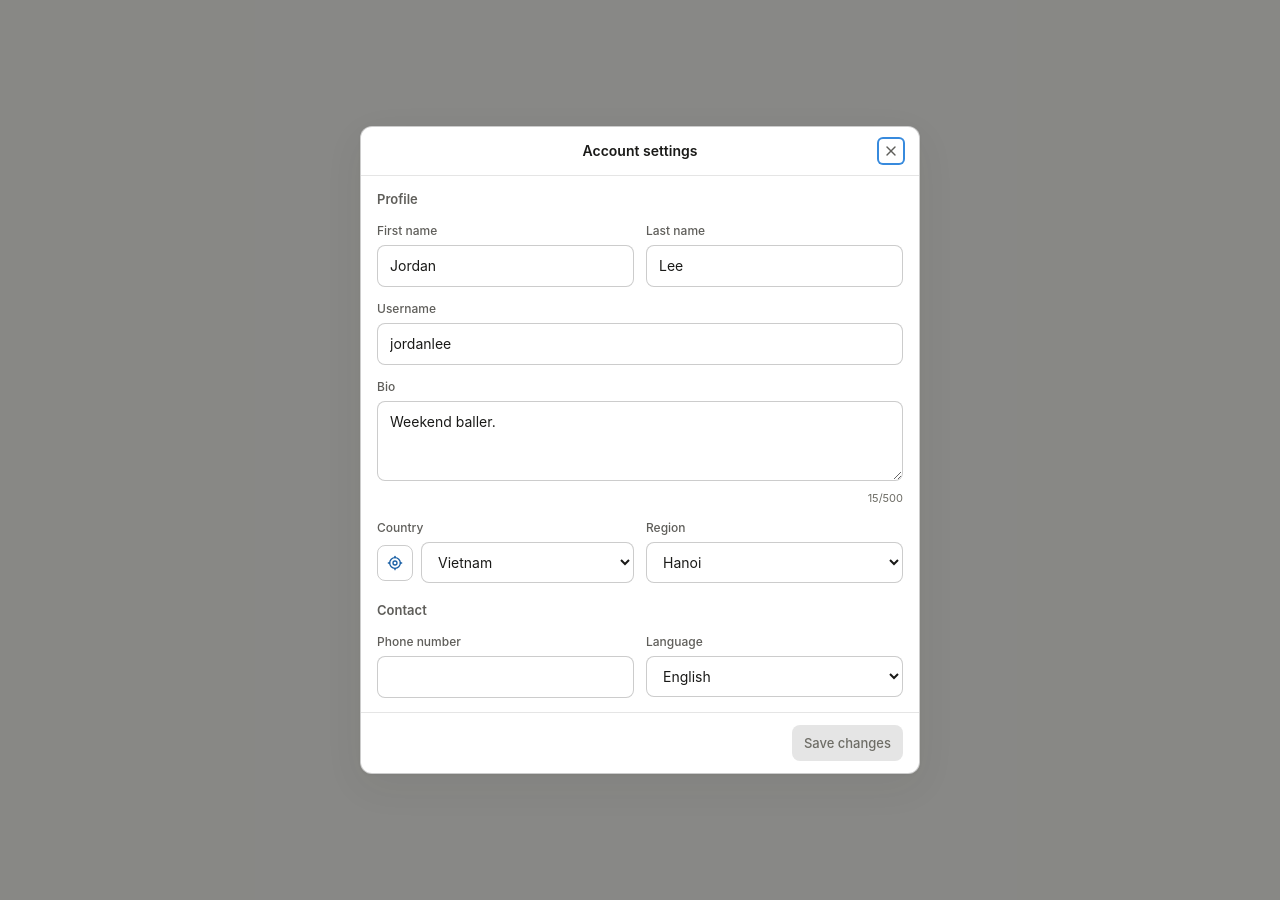
Scenario: AccountSettingsModal · unsaved-changes guard (ACCOUNT-5) › closing the prompt keeps the modal and the edits
Type " Edited" into the text box labelled "Bio" at (640, 441), box [377, 401, 903, 481]
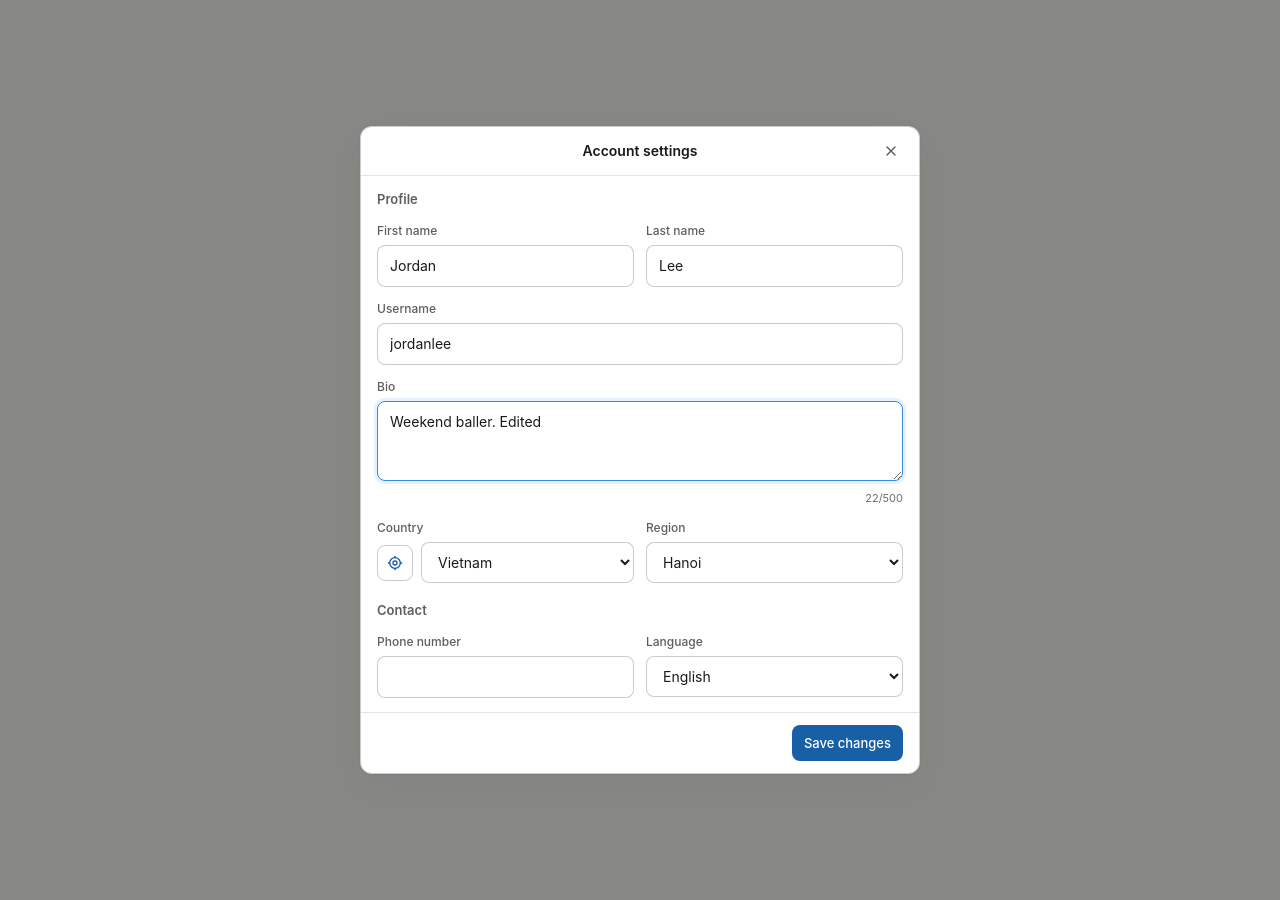
Press Escape
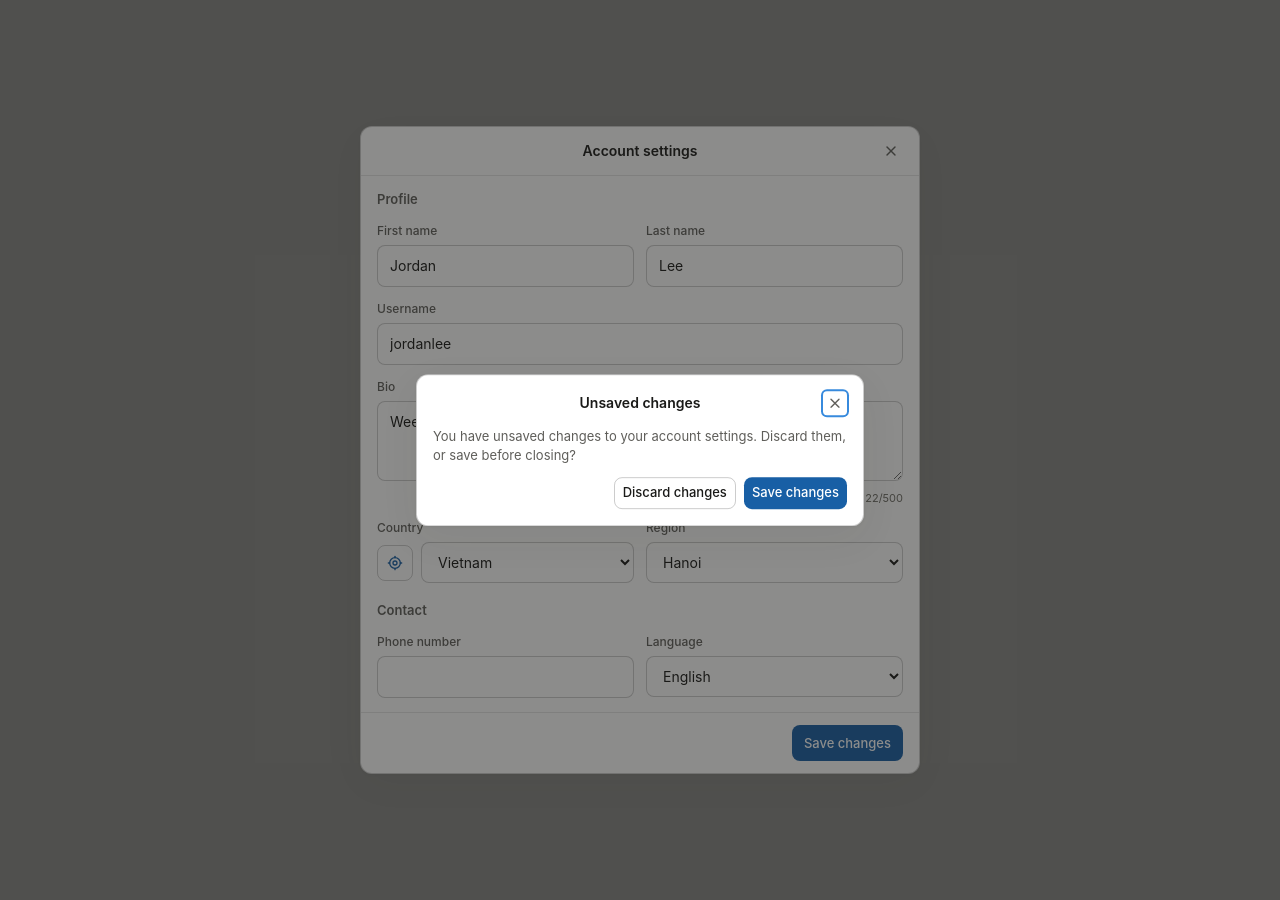
Click the button named "Close" at (835, 403), box [823, 391, 847, 415]
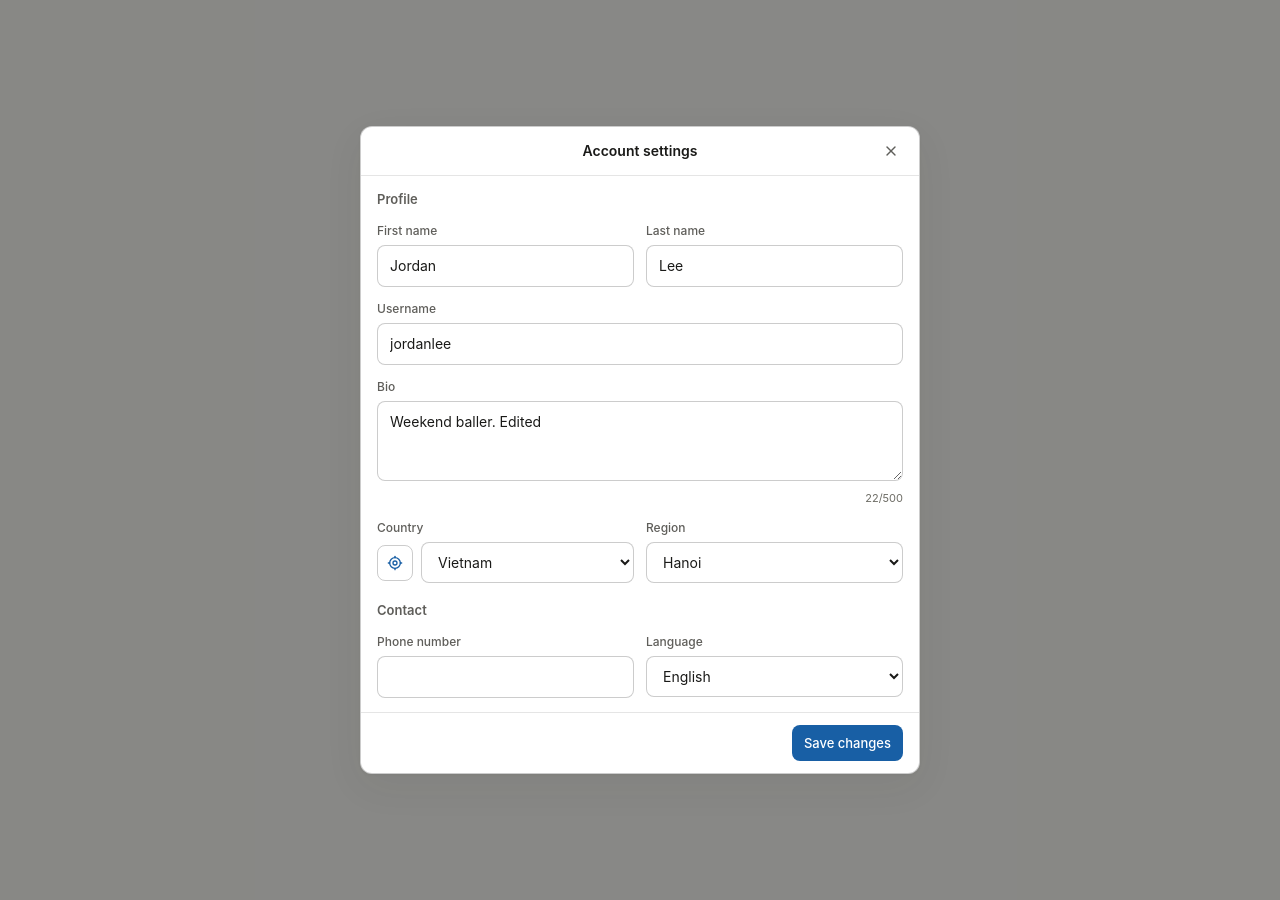
Expected: the text box labelled "Bio" holds "Weekend baller. Edited", [377, 401, 903, 481]
Expected: the heading "Unsaved changes" is gone
